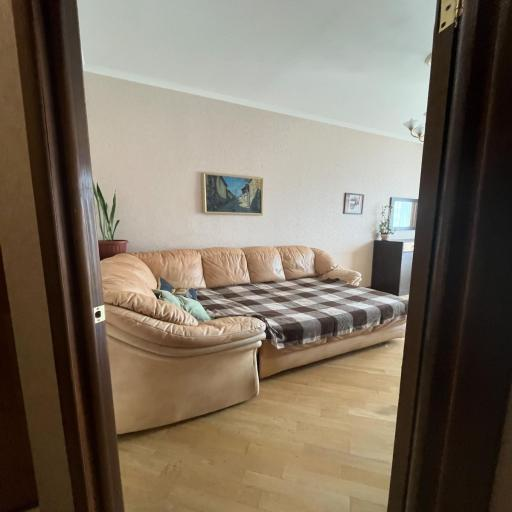sidewalk: (101, 246, 407, 433)
